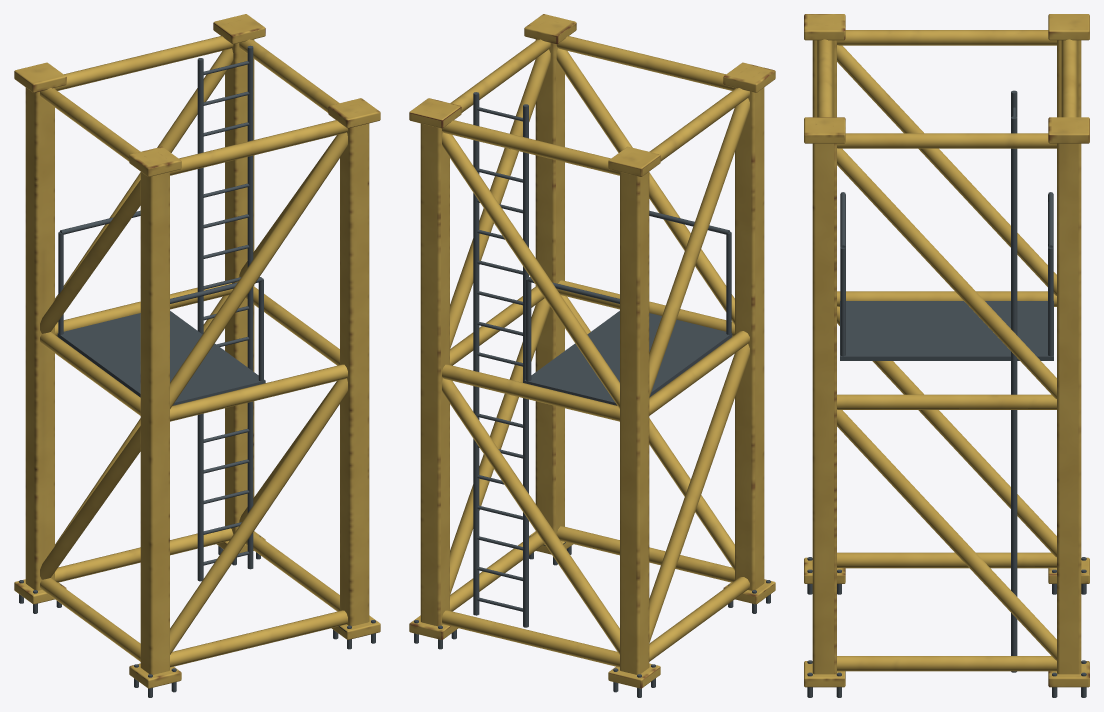
File: mast_section_5m.glb
3 renders of one model, left to right at view 1: azimuth 30°, elevation 25°; view 2: azimuth 150°, elevation 25°; view 3: azimuth 270°, elevation 25°, orthographic. The views are drawn at different scales.
Visible parts, largest first — view 1: mast_section_5m; view 2: mast_section_5m; view 3: mast_section_5m.
Part boxes in pixels (x1=…): mast_section_5m: x1=14, y1=14, x2=380, y2=697; mast_section_5m: x1=409, y1=14, x2=775, y2=697; mast_section_5m: x1=804, y1=14, x2=1089, y2=697.
Bounding box in the file's own units: 2.34 × 5.11 × 2.34.
2 materials, 1 textured.
